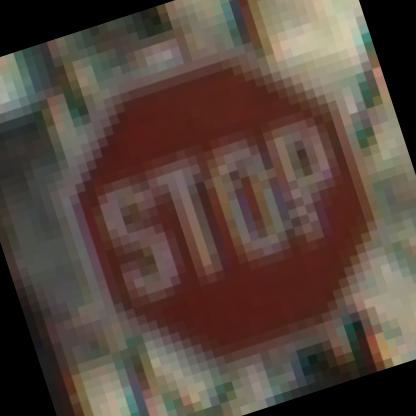stop: (16, 3, 415, 415)
